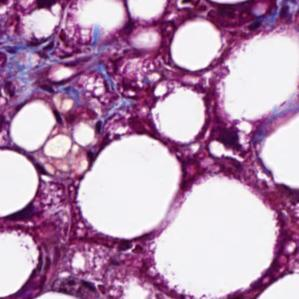inflammation: (38, 83, 113, 137), (6, 0, 72, 48)
